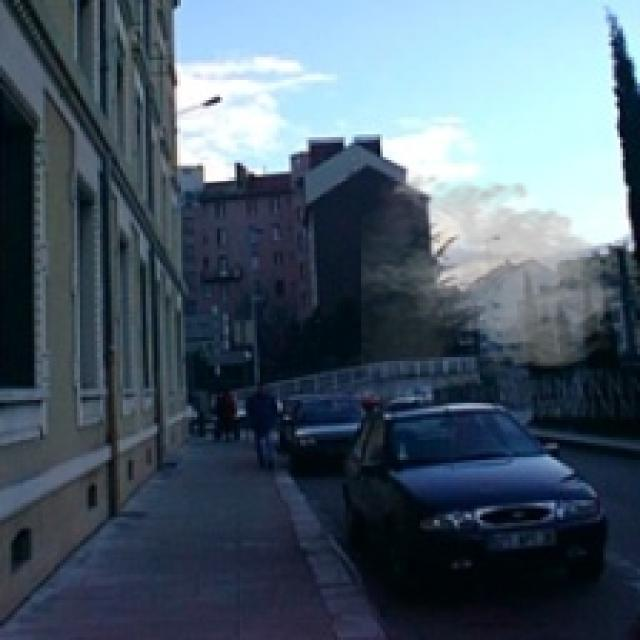Smoke: (359, 168, 632, 374)
